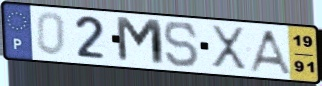0: (35, 11, 68, 58)
2: (74, 15, 111, 61)
A: (246, 28, 294, 76)
M: (113, 14, 167, 68)
S: (162, 20, 202, 69)
X: (210, 23, 249, 73)
